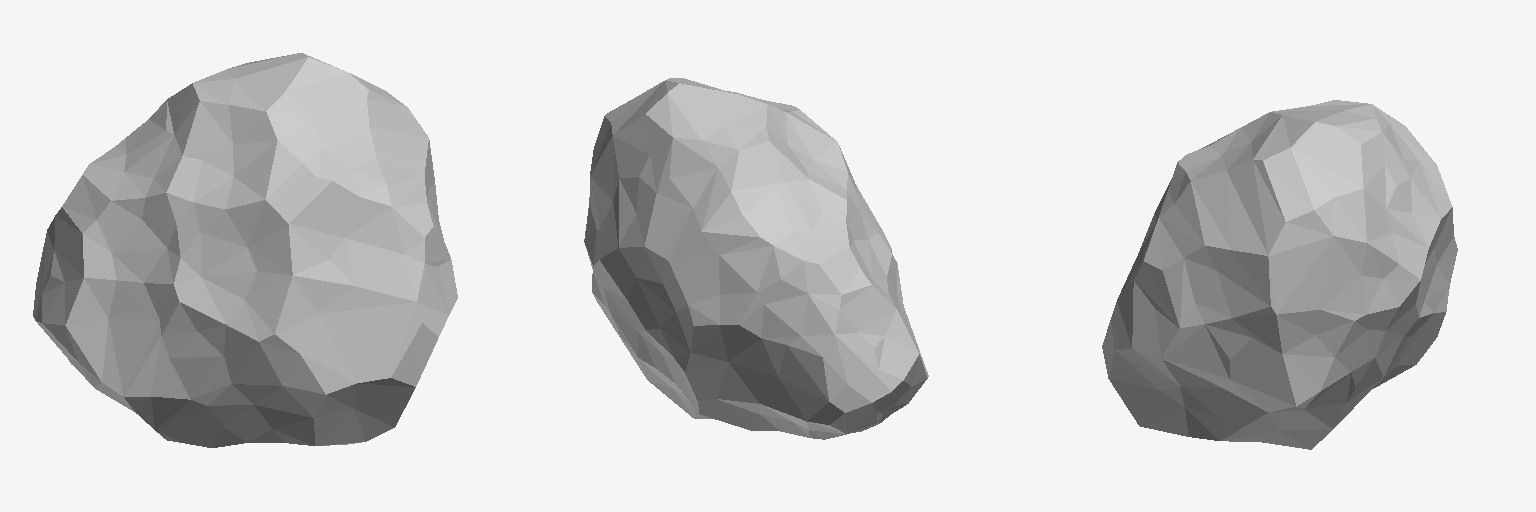
The model's file is rock_008.obj.
3 renders of one model, left to right at view 1: azimuth 30°, elevation 25°; view 2: azimuth 150°, elevation 25°; view 3: azimuth 270°, elevation 25°, orthographic.
Parts seen in each view (by area): view 1: rock.012; view 2: rock.012; view 3: rock.012.
Part boxes in pixels (x1,y1,x2,y2): rock.012: (33,53,457,447); rock.012: (584,78,928,439); rock.012: (1102,100,1457,449).
Size of the model in its own units: 5.38 by 4.96 by 4.74.